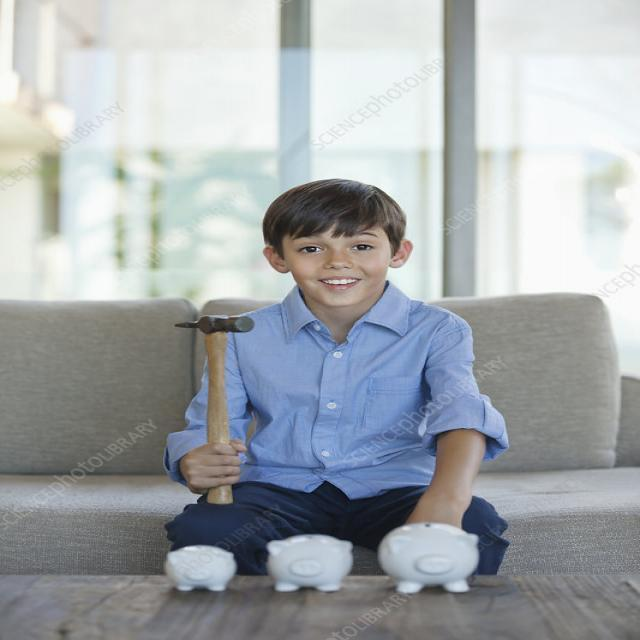hammer: (163, 308, 264, 512)
